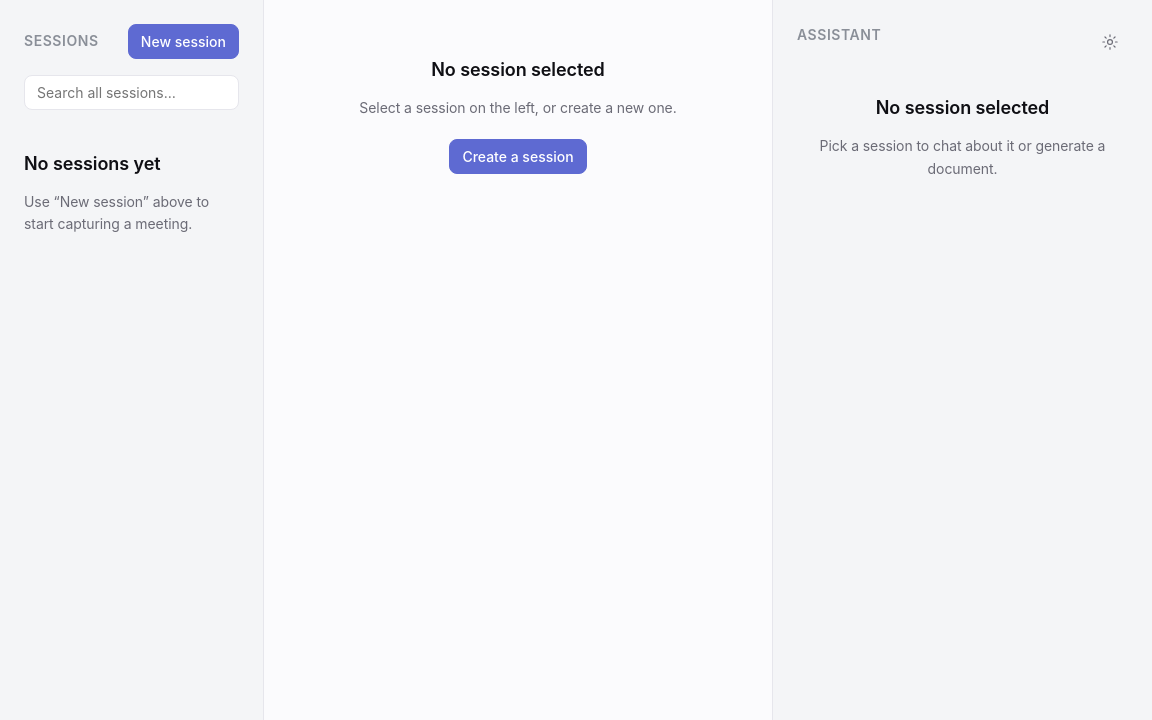
Test case: App › creates a session, selects it, and shows it in the canvas
Click the button "New session". click: (183, 42)
box: [128,24,239,59]
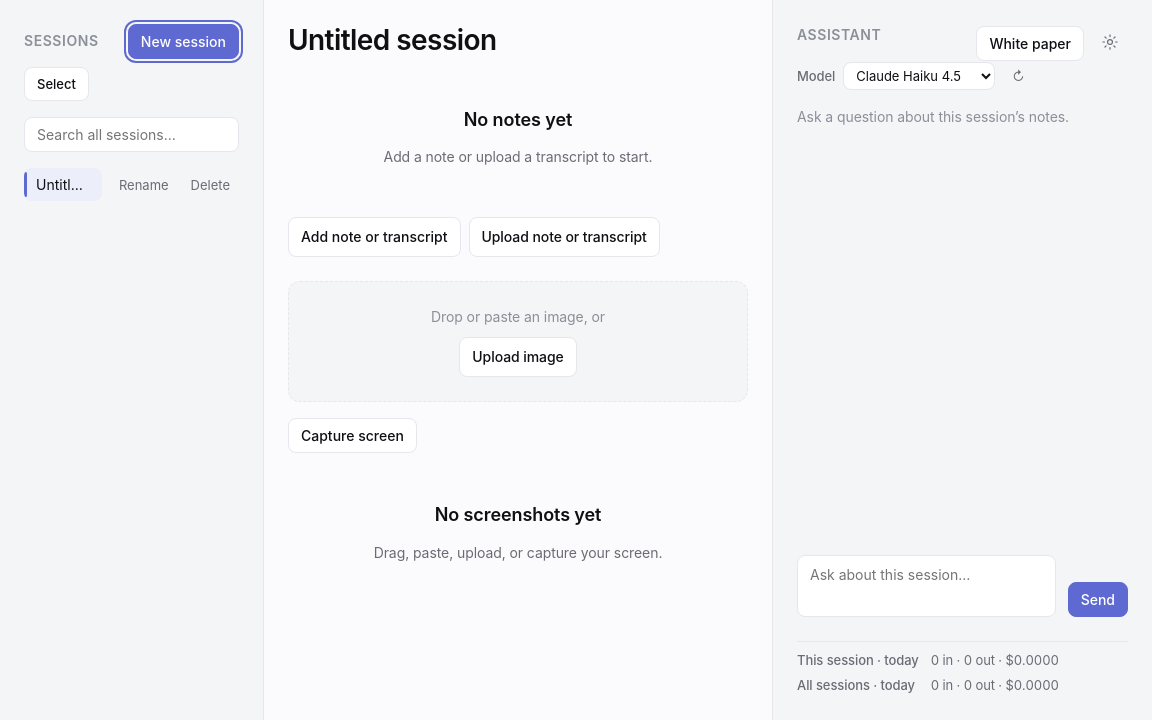
Expected: the heading "Untitled session" is shown, [288,23,496,57]
Expected: the button "Untitled session" is shown, [24,168,102,201]
